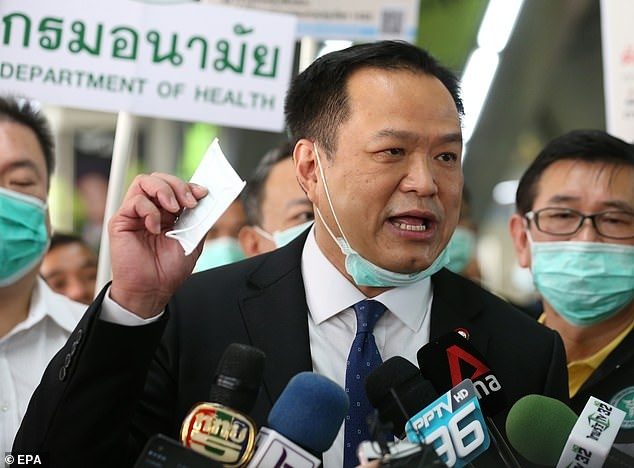with_incorrect_mask: (275, 43, 468, 279)
